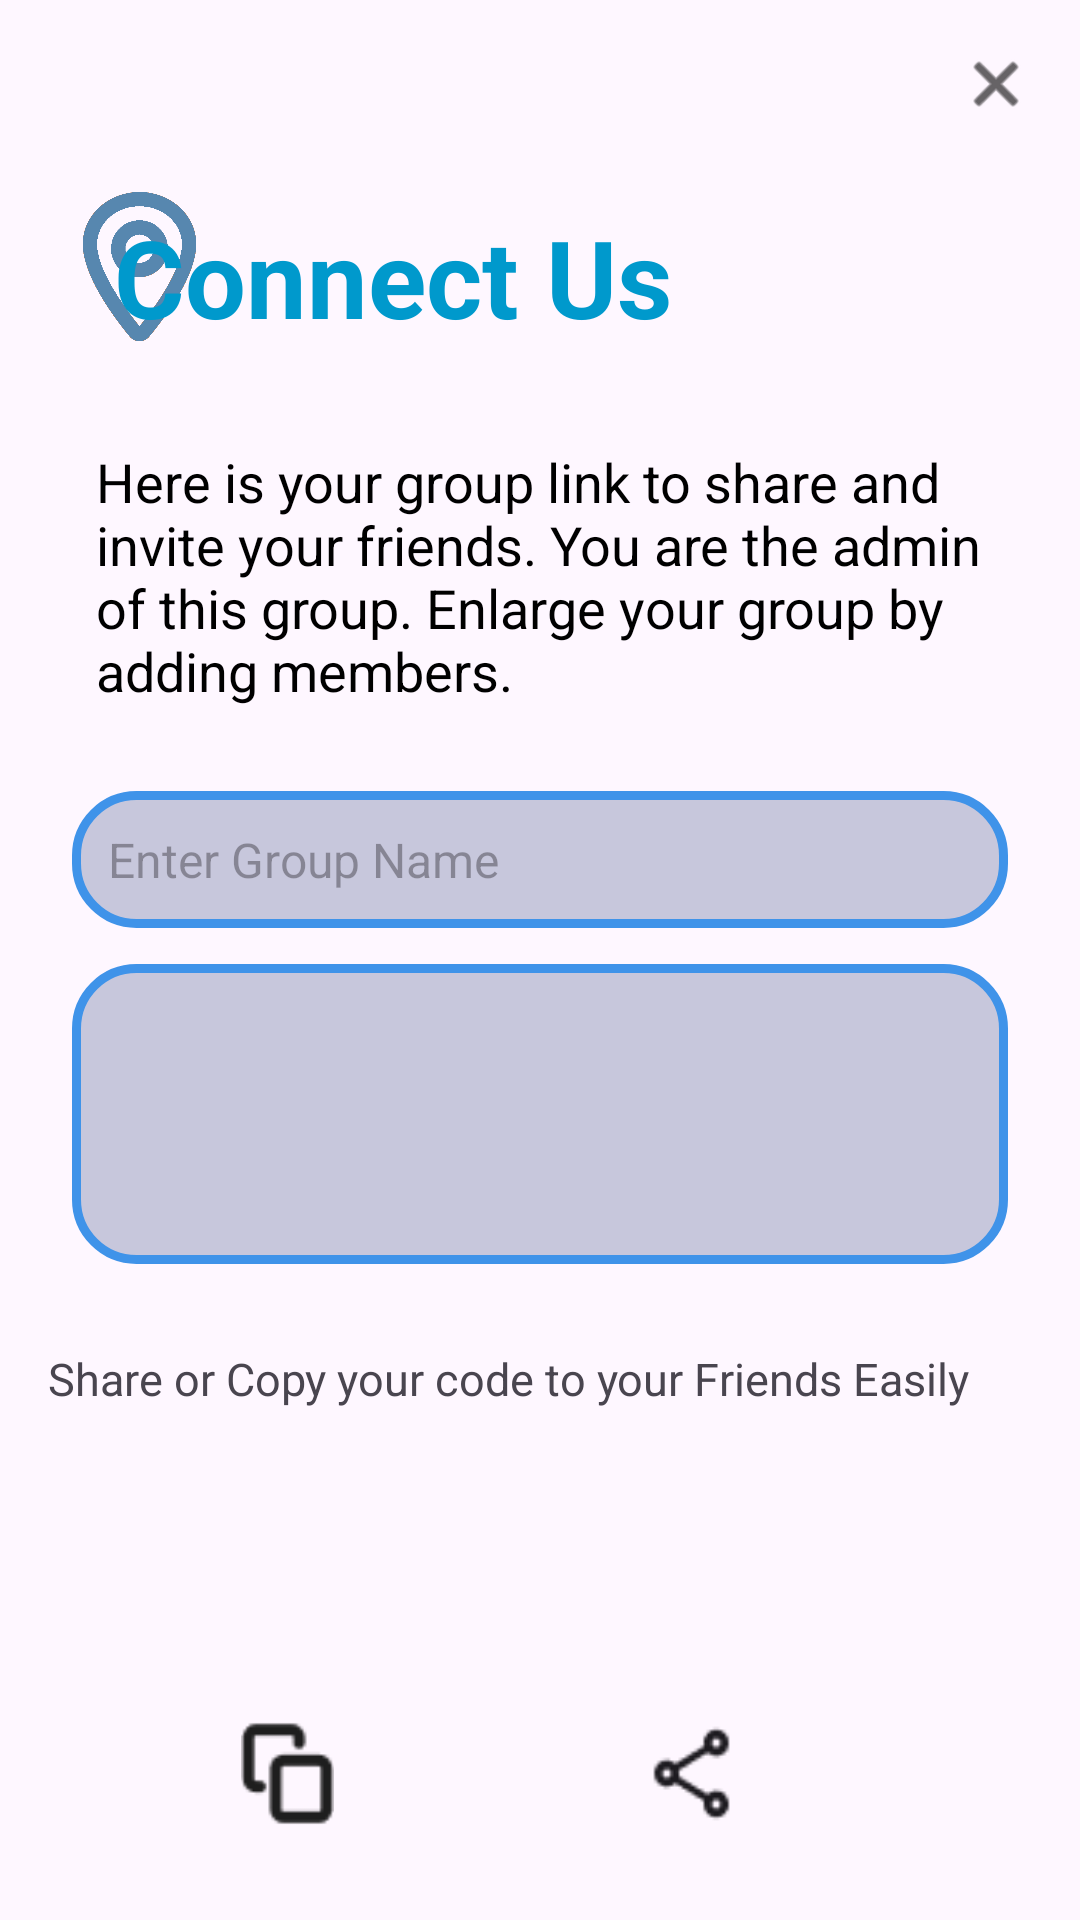

Icons on this 1080px x 1920px Android screen, each with its box as {"x1": x1, "y1": y1, "x2": x2, "y2": y2}:
close clear cancel: {"x1": 973, "y1": 61, "x2": 1019, "y2": 107}
share: {"x1": 653, "y1": 1728, "x2": 730, "y2": 1819}
